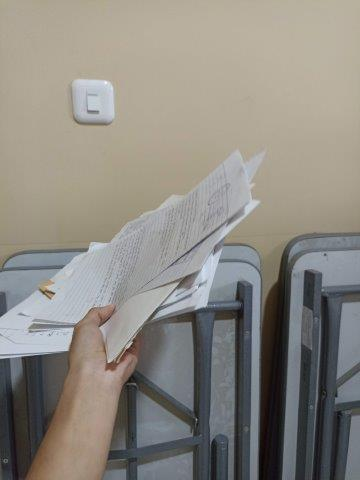kertas: (3, 149, 266, 363)
